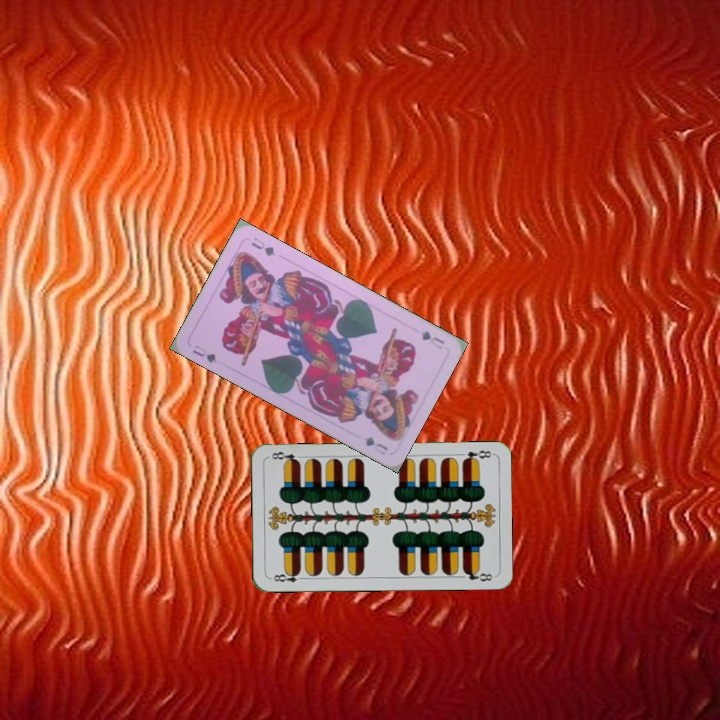E8: (267, 568, 308, 585), (459, 446, 495, 464)
GU: (188, 341, 220, 366), (416, 327, 447, 352)
